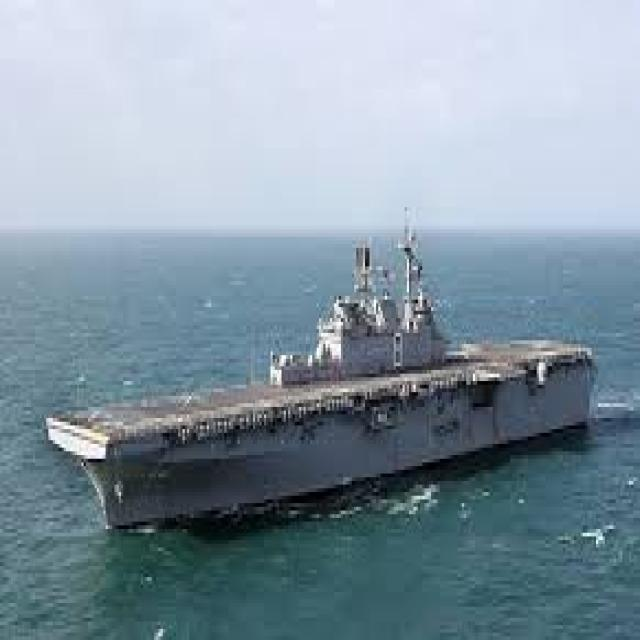navalvessels: (44, 222, 602, 554)
